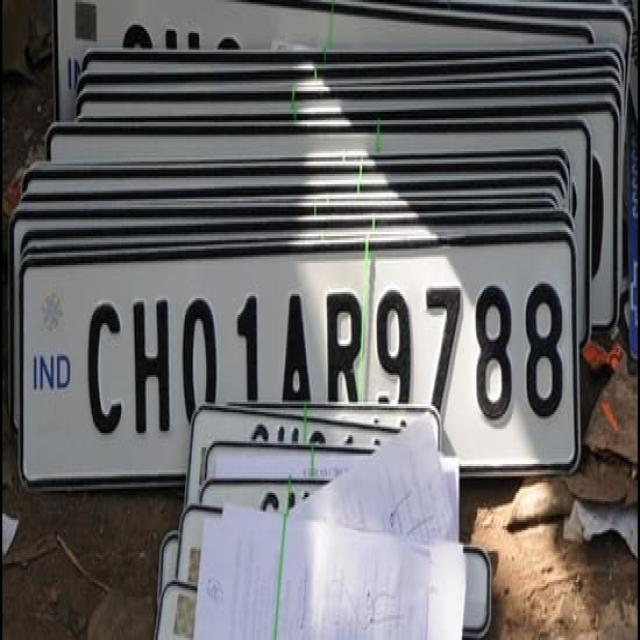License_Plate: (21, 230, 584, 482)
